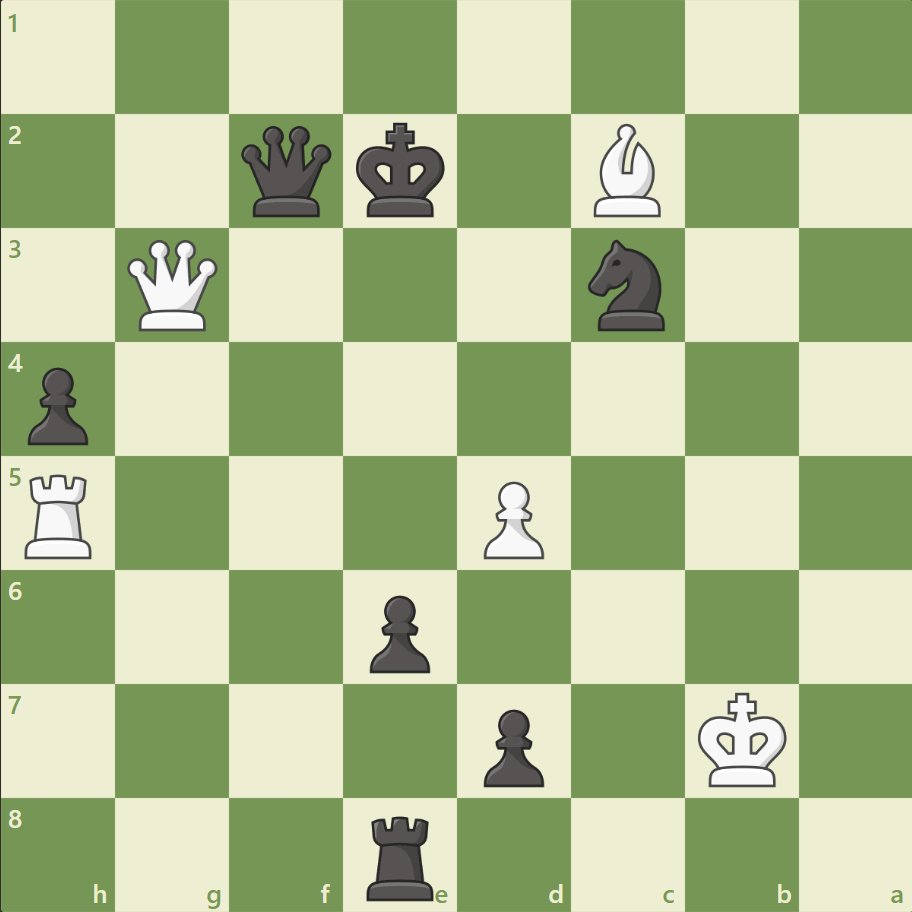B: (585, 120, 669, 222)
K: (692, 685, 792, 793)
P: (474, 473, 549, 564)
Q: (124, 236, 223, 335)
R: (19, 466, 102, 563)
k: (351, 117, 451, 225)
n: (579, 234, 676, 337)
p: (474, 700, 549, 791), (20, 359, 95, 450), (361, 586, 435, 677)
q: (237, 122, 336, 222)
r: (360, 806, 442, 904)
